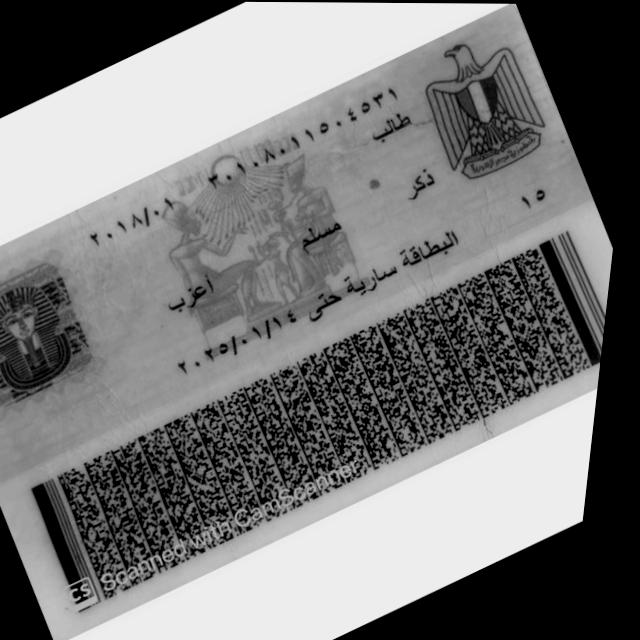back: (0, 7, 613, 640)
